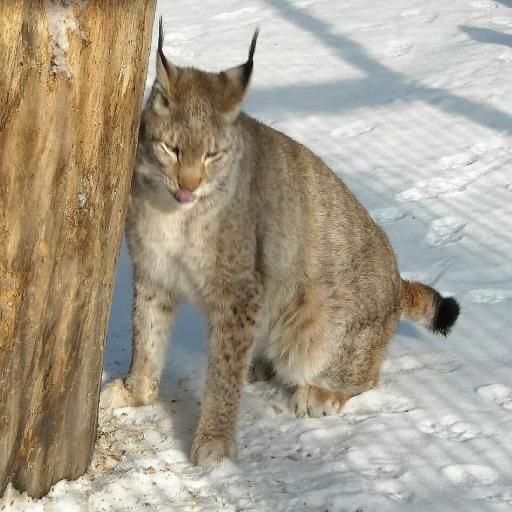lynx: (100, 20, 460, 464)
manul: (260, 60, 269, 74)
